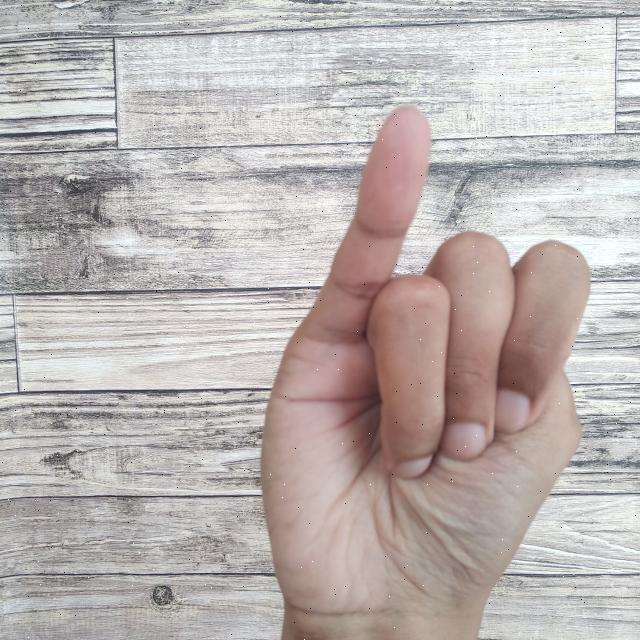I: (258, 98, 589, 640)
